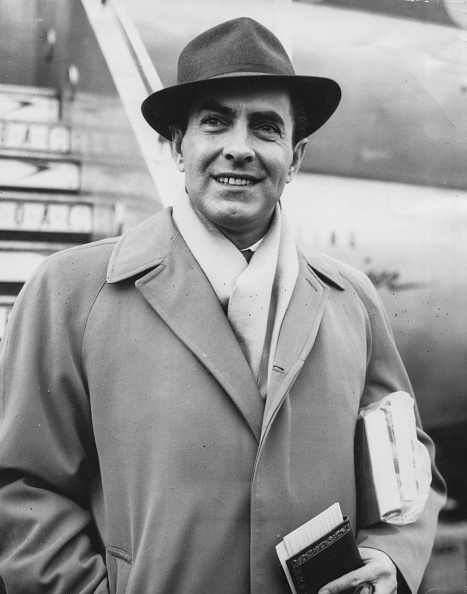em pe: (0, 6, 413, 594)
